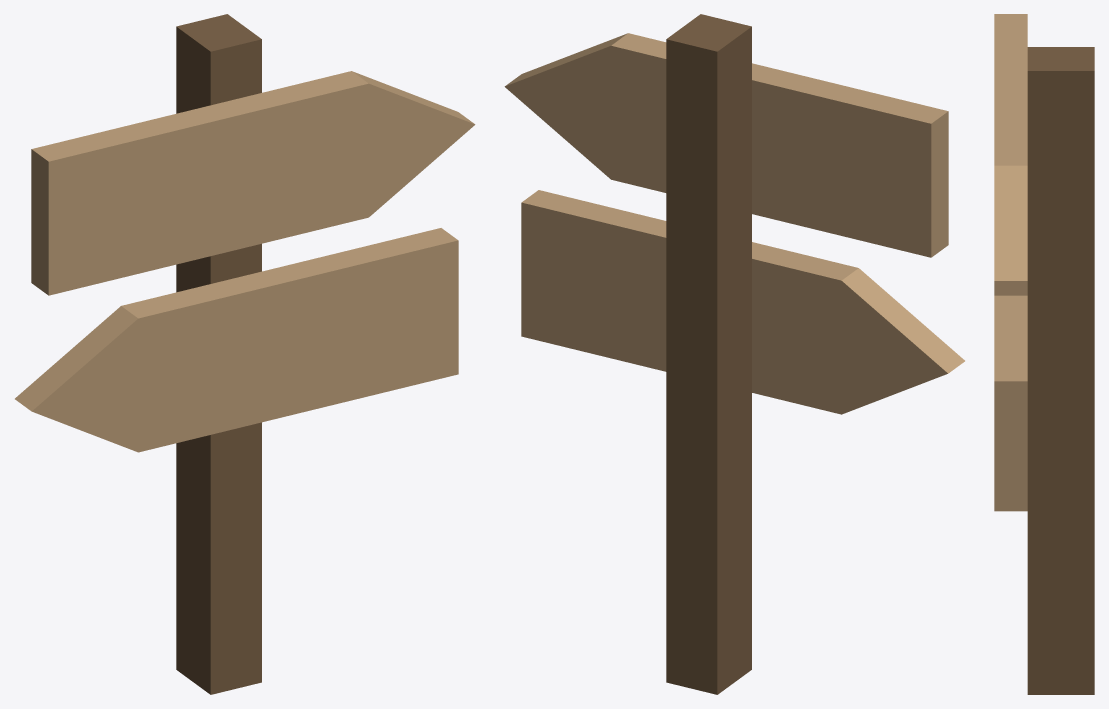
The model's file is TW_SIGN_FORK_A_LOD0.glb.
3 views of the same model, side by side, from view 1: azimuth 30°, elevation 25°; view 2: azimuth 150°, elevation 25°; view 3: azimuth 270°, elevation 25° (orthographic). The views are drawn at different scales.
Parts seen in each view (by area): view 1: TW_SIGN_FORK_A_LOD0; view 2: TW_SIGN_FORK_A_LOD0; view 3: TW_SIGN_FORK_A_LOD0.
Part boxes in pixels (bbox=[...]): TW_SIGN_FORK_A_LOD0: bbox=[15, 14, 475, 694]; TW_SIGN_FORK_A_LOD0: bbox=[504, 14, 964, 694]; TW_SIGN_FORK_A_LOD0: bbox=[994, 14, 1094, 694].
Size of the model in its own units: 1.04 by 1.44 by 0.21.
1 material, 1 textured.
